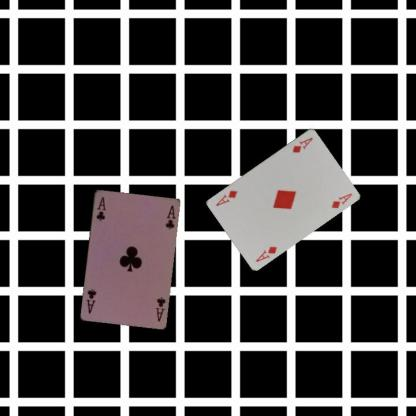Ac: (92, 194, 107, 222), (152, 294, 166, 322)
Ad: (253, 243, 279, 263), (290, 134, 314, 154)
